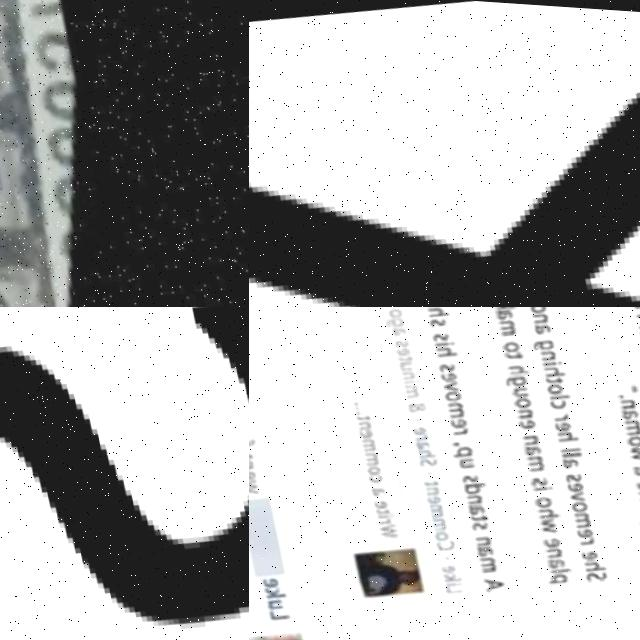8: (403, 396, 424, 410)
A: (479, 570, 501, 588), (529, 315, 550, 331), (461, 498, 482, 514), (616, 398, 636, 414), (556, 449, 576, 463), (541, 550, 560, 564), (520, 438, 539, 452), (470, 539, 489, 553), (365, 480, 383, 494), (626, 454, 640, 470), (387, 321, 405, 333), (411, 434, 427, 447), (492, 307, 512, 316)
C: (430, 533, 451, 547), (545, 390, 564, 404), (364, 471, 379, 479)
D: (459, 476, 483, 491)
E: (574, 542, 594, 556), (570, 520, 590, 534), (514, 412, 534, 426), (256, 573, 276, 587), (561, 473, 580, 487), (549, 412, 568, 426), (537, 529, 556, 543), (446, 411, 464, 425), (436, 367, 456, 379), (408, 420, 425, 433), (369, 493, 384, 506), (436, 559, 452, 570), (392, 341, 408, 352), (422, 490, 437, 501), (355, 426, 370, 436), (630, 471, 640, 485), (249, 466, 253, 480)
F: (634, 312, 640, 322)
G: (501, 368, 525, 383), (529, 332, 552, 346), (382, 313, 403, 325), (632, 507, 640, 521)
H: (578, 552, 603, 566), (540, 358, 564, 372), (504, 356, 528, 370), (432, 340, 457, 353), (533, 499, 556, 513), (554, 422, 575, 436), (413, 443, 433, 455), (425, 307, 446, 314)
I: (540, 353, 560, 361), (528, 479, 549, 486), (432, 335, 452, 342), (372, 509, 391, 516), (439, 576, 457, 583), (399, 374, 417, 381), (634, 320, 640, 329), (635, 491, 640, 498)
K: (259, 583, 281, 597), (437, 568, 456, 578), (633, 480, 640, 494)
L: (262, 604, 285, 619), (543, 558, 567, 568), (439, 580, 458, 592), (556, 444, 579, 452), (556, 439, 579, 447), (544, 387, 567, 394)
M: (444, 394, 464, 414), (495, 312, 515, 331), (522, 449, 542, 466), (474, 551, 494, 568), (619, 411, 638, 428), (569, 504, 588, 521), (400, 378, 417, 395), (359, 447, 376, 464), (427, 512, 443, 529), (423, 498, 440, 514), (357, 433, 373, 450)
N: (468, 528, 488, 544), (516, 427, 536, 441), (539, 540, 558, 554), (615, 390, 633, 404), (513, 401, 531, 415), (461, 488, 479, 502), (538, 343, 554, 356), (398, 364, 413, 376), (353, 416, 368, 428), (421, 481, 436, 492), (530, 307, 546, 317)
O: (439, 383, 460, 399), (529, 488, 548, 504), (499, 333, 518, 349), (565, 493, 585, 507), (510, 389, 530, 403), (622, 425, 640, 439), (543, 376, 560, 389), (429, 525, 445, 538), (362, 460, 378, 473), (384, 307, 400, 314)
P: (447, 439, 470, 453), (541, 566, 562, 580)
R: (548, 404, 568, 416), (573, 529, 590, 540), (447, 420, 465, 430), (409, 428, 425, 437), (372, 513, 387, 521)
S: (0, 307, 249, 640), (580, 562, 601, 576), (524, 468, 544, 482), (456, 467, 476, 481), (434, 355, 453, 369), (559, 466, 580, 478), (427, 326, 448, 338), (424, 311, 445, 323), (465, 514, 485, 526), (414, 452, 434, 464), (390, 334, 408, 344)
T: (501, 345, 521, 355), (465, 507, 485, 517), (542, 369, 561, 379), (350, 410, 369, 420), (419, 475, 435, 484), (395, 350, 410, 358), (371, 504, 386, 512)
U: (508, 379, 527, 393), (260, 596, 279, 610), (453, 451, 471, 465), (395, 356, 411, 367)
V: (438, 375, 457, 389), (564, 483, 581, 496)
W: (373, 518, 393, 536), (535, 511, 554, 528), (624, 437, 640, 454), (249, 475, 255, 493)
X: (249, 0, 640, 307)
